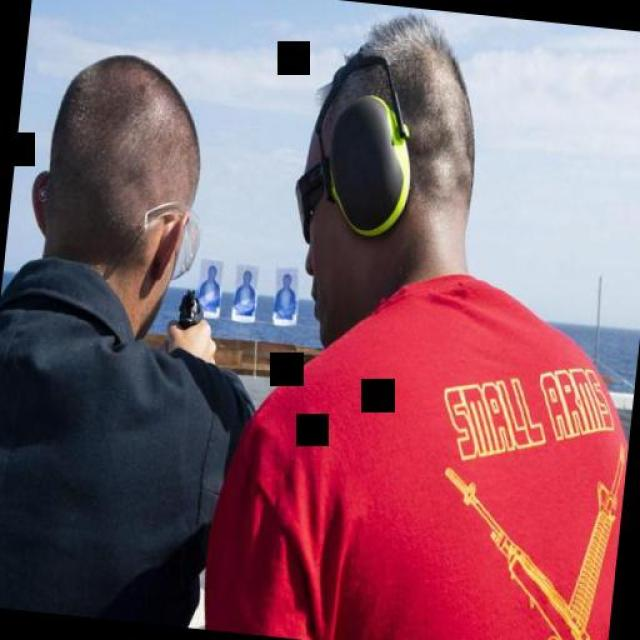gun: (172, 285, 206, 329)
